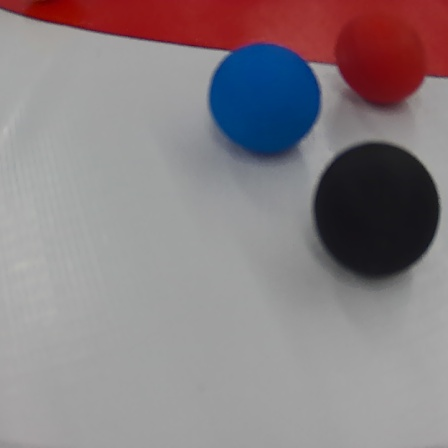black: (319, 136, 436, 282)
blue: (203, 40, 321, 156)
red: (335, 13, 426, 116)
red_base: (0, 0, 443, 85)
